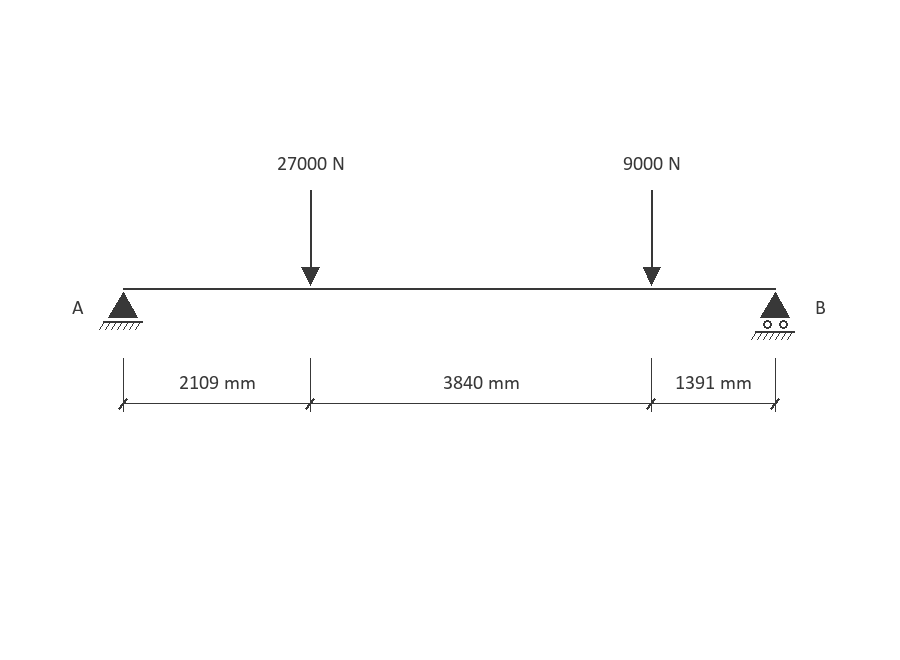pin_support: (99, 292, 143, 330)
point_load: (301, 190, 320, 286), (643, 190, 661, 286)
roller_support: (751, 292, 795, 340)
